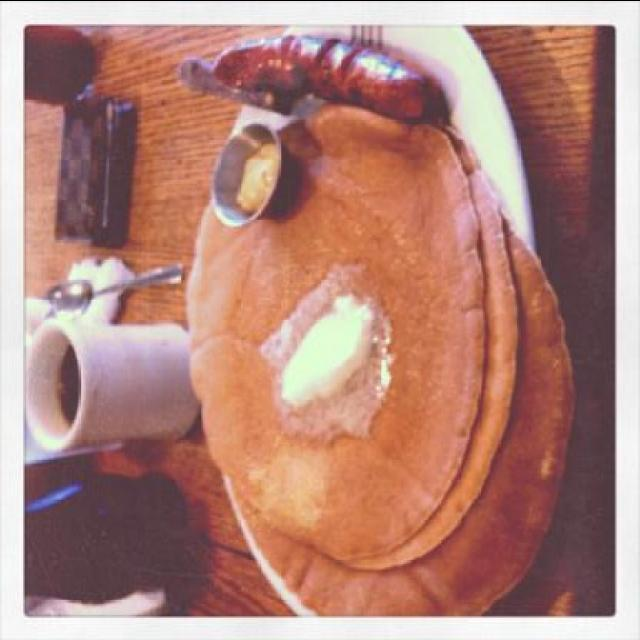Pancake: (230, 217, 578, 615), (188, 100, 486, 560)
